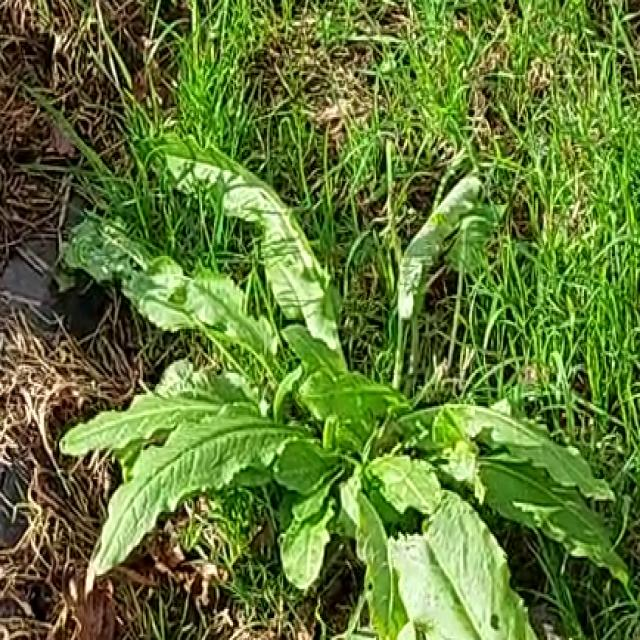organic waste: (52, 126, 597, 640)
